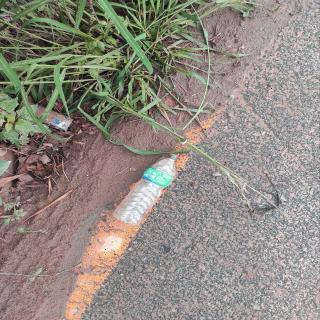Plastic-bottle: (111, 150, 182, 232)
